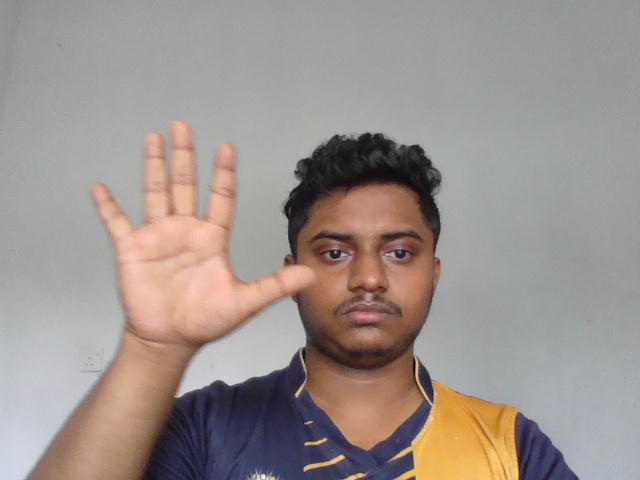Hello: (89, 119, 318, 349)
